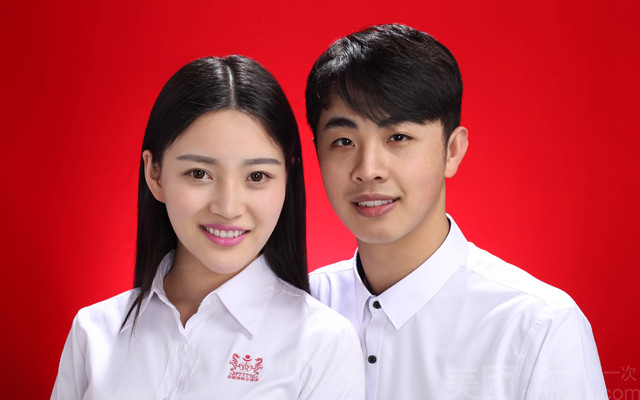unmask: (315, 99, 446, 243), (163, 113, 277, 271)
